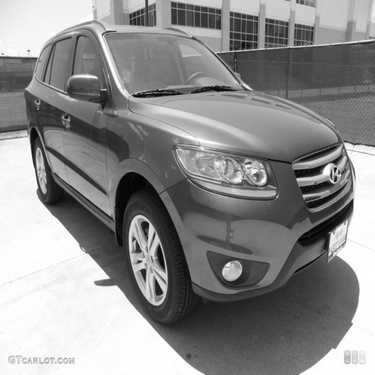car: (13, 15, 361, 325)
